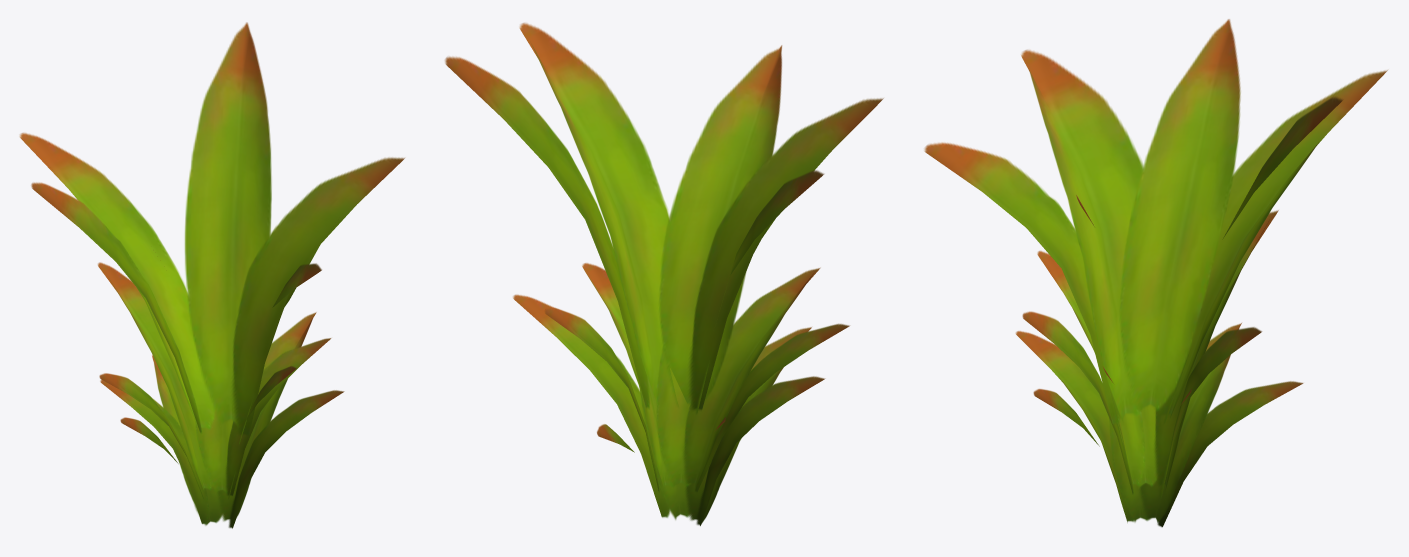
Rendered from n_plant_big1.glb.
3 views of the same model, side by side, from view 1: azimuth 30°, elevation 25°; view 2: azimuth 150°, elevation 25°; view 3: azimuth 270°, elevation 25° (orthographic). The views are drawn at different scales.
Visible parts, largest first — view 1: Plant_1_Big; view 2: Plant_1_Big; view 3: Plant_1_Big.
Boxes of the visible parts, x1=… form: Plant_1_Big: x1=19, y1=22, x2=404, y2=528; Plant_1_Big: x1=445, y1=23, x2=883, y2=526; Plant_1_Big: x1=924, y1=19, x2=1387, y2=527.
Bounding box in the file's own units: 2.89 × 3.76 × 3.13.
1 material, 1 textured.
